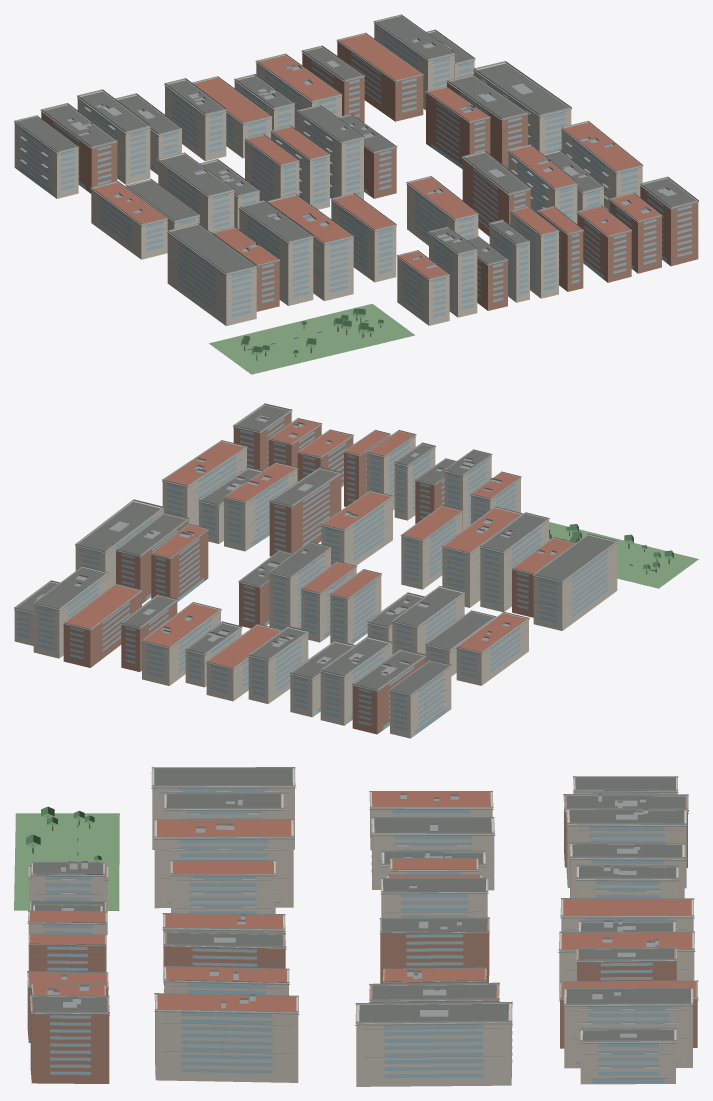
File: tile-m003-p002.glb
The picture shows the model from 3 angles, top to bottom: view 1: azimuth 30°, elevation 25°; view 2: azimuth 150°, elevation 25°; view 3: azimuth 270°, elevation 25°; orthographic projection. The views are drawn at different scales.
Visible parts, largest first — view 1: neighborhood-park-block-013-mesh-0, building-0063-mesh-5, building-0226-mesh-254, building-0065-mesh-17, building-0221-mesh-235, building-0073-mesh-58, building-0213-mesh-208, building-0068-mesh-31, building-0149-mesh-120, building-0156-mesh-163, building-0151-mesh-133, building-0066-mesh-24 (+91 smaller); view 2: building-0063-mesh-5, building-0151-mesh-133, neighborhood-park-block-013-mesh-0, building-0226-mesh-254, building-0221-mesh-235, building-0065-mesh-17, building-0150-mesh-126, building-0073-mesh-58, building-0216-mesh-214, building-0068-mesh-31, building-0149-mesh-120, building-0156-mesh-163 (+86 smaller); view 3: building-0218-mesh-228, building-0223-mesh-247, neighborhood-park-block-013-mesh-0, building-0213-mesh-208, building-0066-mesh-24, building-0218-mesh-229, building-0223-mesh-248, building-0155-mesh-157, building-0227-mesh-259, building-0149-mesh-120, building-0228-mesh-266, building-0063-mesh-9 (+86 smaller).
Boxes of the visible parts, x1=… form: neighborhood-park-block-013-mesh-0: x1=209, y1=303, x2=414, y2=374; building-0063-mesh-5: x1=167, y1=224, x2=256, y2=325; building-0226-mesh-254: x1=337, y1=34, x2=423, y2=121; building-0065-mesh-17: x1=239, y1=204, x2=313, y2=305; building-0221-mesh-235: x1=426, y1=92, x2=490, y2=168; building-0073-mesh-58: x1=14, y1=122, x2=78, y2=198; building-0213-mesh-208: x1=640, y1=178, x2=698, y2=266; building-0068-mesh-31: x1=91, y1=182, x2=167, y2=259; building-0149-mesh-120: x1=331, y1=200, x2=396, y2=282; building-0156-mesh-163: x1=165, y1=80, x2=226, y2=161; building-0151-mesh-133: x1=462, y1=152, x2=530, y2=236; building-0066-mesh-24: x1=269, y1=195, x2=353, y2=300; building-0063-mesh-5: x1=533, y1=535, x2=617, y2=630; building-0151-mesh-133: x1=269, y1=469, x2=341, y2=556; neighborhood-park-block-013-mesh-0: x1=549, y1=522, x2=698, y2=588; building-0226-mesh-254: x1=63, y1=584, x2=141, y2=667; building-0221-mesh-235: x1=151, y1=530, x2=208, y2=601; building-0065-mesh-17: x1=480, y1=513, x2=548, y2=611; building-0150-mesh-126: x1=321, y1=491, x2=392, y2=565; building-0073-mesh-58: x1=390, y1=666, x2=451, y2=738; building-0216-mesh-214: x1=224, y1=463, x2=297, y2=551; building-0068-mesh-31: x1=456, y1=613, x2=528, y2=685; building-0149-mesh-120: x1=401, y1=512, x2=462, y2=589; building-0156-mesh-163: x1=248, y1=628, x2=308, y2=703; building-0218-mesh-228: x1=155, y1=994, x2=298, y2=1082; building-0223-mesh-247: x1=356, y1=1004, x2=511, y2=1086; neighborhood-park-block-013-mesh-0: x1=14, y1=813, x2=119, y2=910; building-0213-mesh-208: x1=30, y1=997, x2=109, y2=1083; building-0066-mesh-24: x1=154, y1=820, x2=293, y2=908; building-0218-mesh-229: x1=155, y1=1012, x2=272, y2=1073; building-0223-mesh-248: x1=384, y1=1024, x2=512, y2=1077; building-0155-mesh-157: x1=380, y1=919, x2=489, y2=983; building-0227-mesh-259: x1=564, y1=989, x2=692, y2=1068; building-0149-mesh-120: x1=171, y1=861, x2=275, y2=913; building-0228-mesh-266: x1=580, y1=1030, x2=675, y2=1084; building-0063-mesh-9: x1=154, y1=768, x2=292, y2=785.
Bounding box in the file's own units: 280 × 38.33 × 296.
